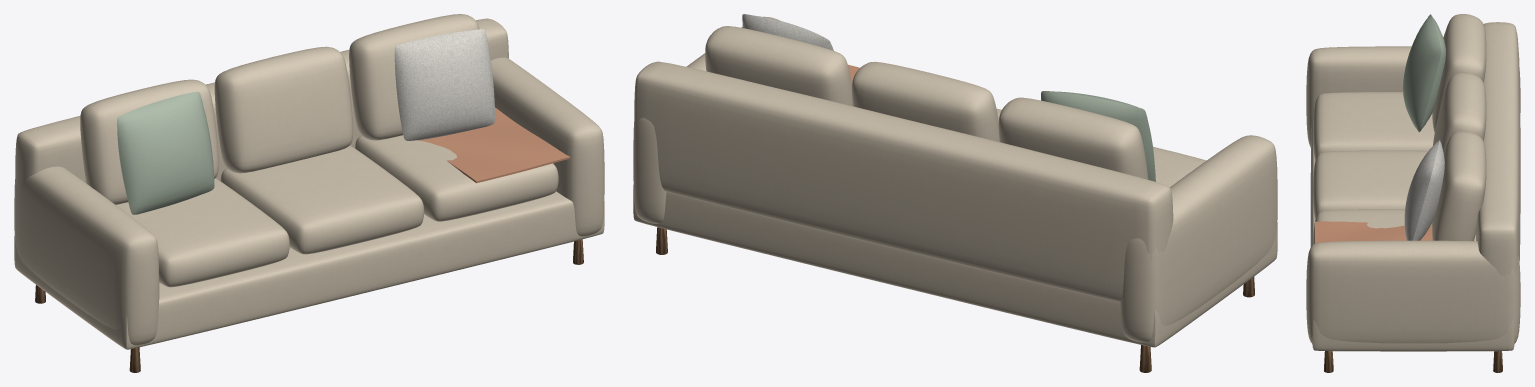
The model's file is sofa-lino-3p-v2.gltf.
3 views of the same model, side by side, from view 1: azimuth 30°, elevation 25°; view 2: azimuth 150°, elevation 25°; view 3: azimuth 270°, elevation 25° (orthographic). The views are drawn at different scales.
Visible parts, largest first — view 1: sofa-lino-3p__f_lino_arena, sofa-lino-3p__f_boucle, sofa-lino-3p__f_lino_salvia, sofa-lino-3p__f_manta, sofa-lino-3p__w_nogal; view 2: sofa-lino-3p__f_lino_arena, sofa-lino-3p__f_lino_salvia, sofa-lino-3p__f_boucle, sofa-lino-3p__w_nogal; view 3: sofa-lino-3p__f_lino_arena, sofa-lino-3p__f_lino_salvia, sofa-lino-3p__f_boucle, sofa-lino-3p__f_manta, sofa-lino-3p__w_nogal.
Part boxes in pixels (x1,y1,x2,y2): sofa-lino-3p__f_lino_arena: (14,14,604,349); sofa-lino-3p__f_boucle: (394,29,495,140); sofa-lino-3p__f_lino_salvia: (117,91,214,214); sofa-lino-3p__f_manta: (418,107,570,183); sofa-lino-3p__w_nogal: (35,239,583,372); sofa-lino-3p__f_lino_arena: (633,16,1277,347); sofa-lino-3p__f_lino_salvia: (1041,91,1155,181); sofa-lino-3p__f_boucle: (742,14,833,50); sofa-lino-3p__w_nogal: (656,227,1254,372); sofa-lino-3p__f_lino_arena: (1306,14,1520,351); sofa-lino-3p__f_lino_salvia: (1403,14,1445,132); sofa-lino-3p__f_boucle: (1404,140,1444,240); sofa-lino-3p__f_manta: (1315,221,1432,243); sofa-lino-3p__w_nogal: (1324,351,1502,372).
Bounding box in the file's own units: 2.2 × 0.8841 × 0.9367.
Materials: 5 (5 with a texture image).
